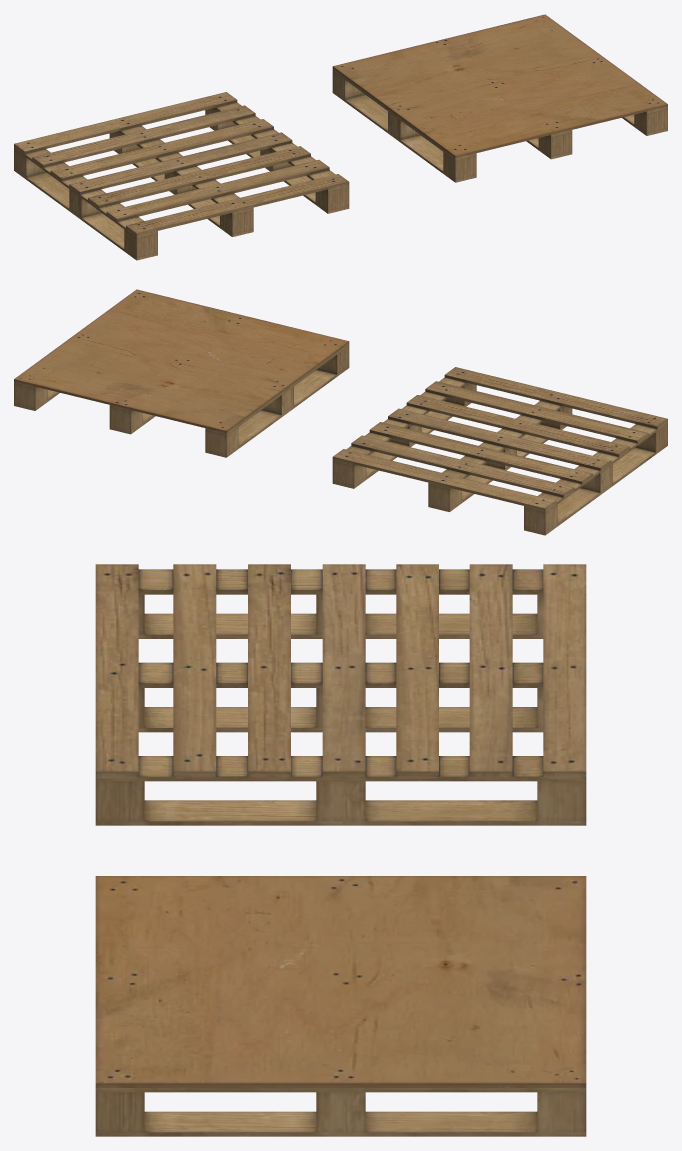
The model's file is wooden_pallets.glb.
The picture shows the model from 3 angles, top to bottom: view 1: azimuth 30°, elevation 25°; view 2: azimuth 150°, elevation 25°; view 3: azimuth 270°, elevation 25°; orthographic projection. The views are drawn at different scales.
Visible parts, largest first — view 1: Pallet_2, Pallet_1; view 2: Pallet_2, Pallet_1; view 3: Pallet_2, Pallet_1.
Part boxes in pixels (box(x1,y1,x2,y2)): Pallet_2: box(332, 14, 667, 182); Pallet_1: box(14, 92, 349, 260); Pallet_2: box(14, 289, 349, 457); Pallet_1: box(332, 367, 667, 535); Pallet_2: box(95, 876, 586, 1136); Pallet_1: box(95, 564, 586, 825).
Bounding box in the file's own units: 5 × 0.243 × 2.
Materials: 2 (2 with a texture image).
